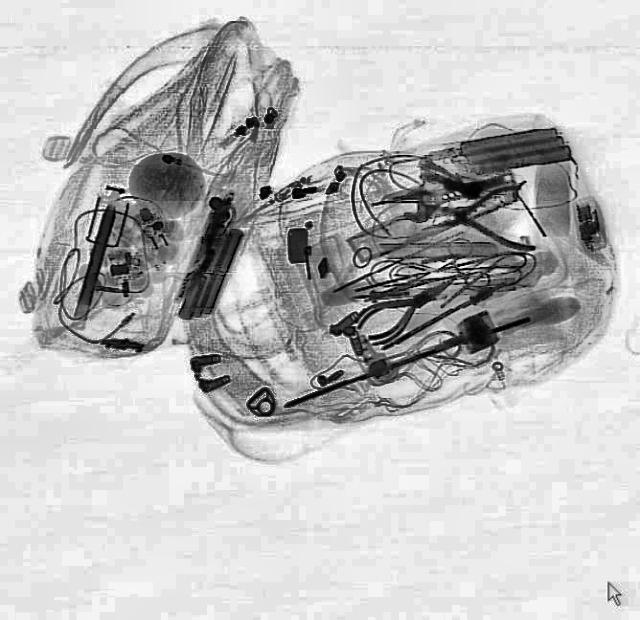Pliers: (346, 264, 464, 350), (416, 181, 536, 257)
Wrench: (396, 163, 520, 225)
